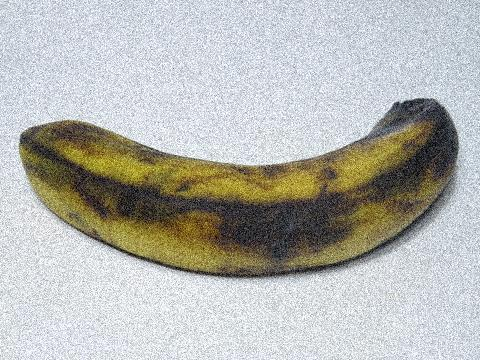overripe: (12, 68, 467, 299)
